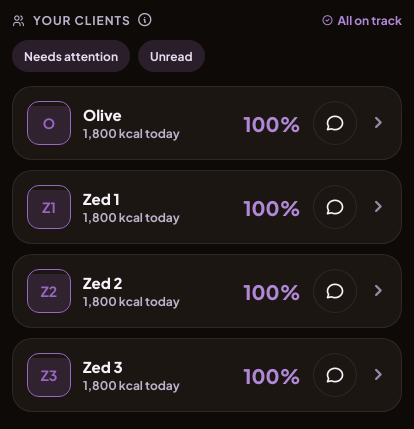
ClientList (with summaries) › says nobody needs attention when the filter empties the list
Click the button "Needs attention".
click(71, 56)  # box [12,40,130,72]
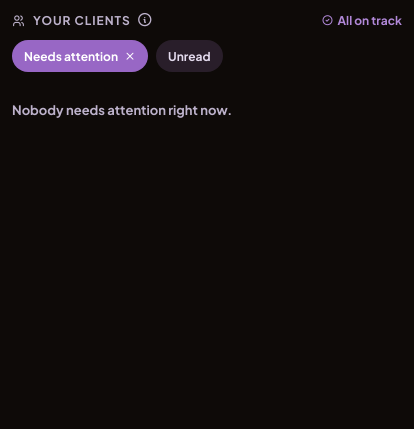
Now the text "Nobody needs attention right now." is shown, box [12,102,232,118]
